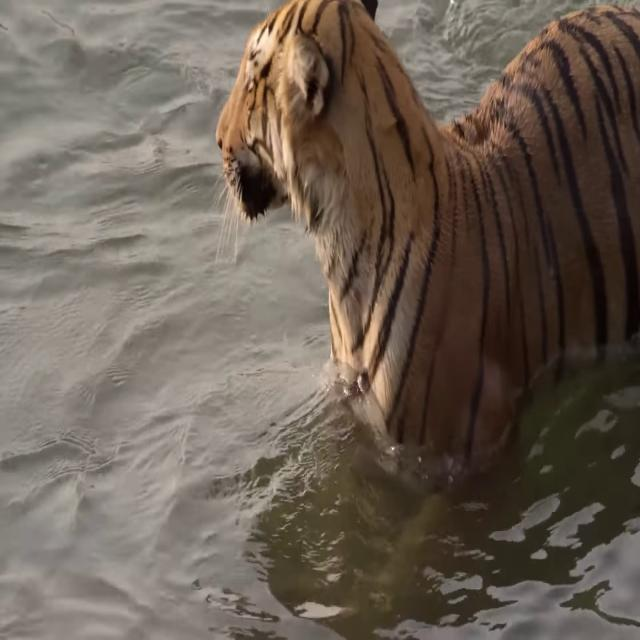tiger: (215, 0, 640, 487)
